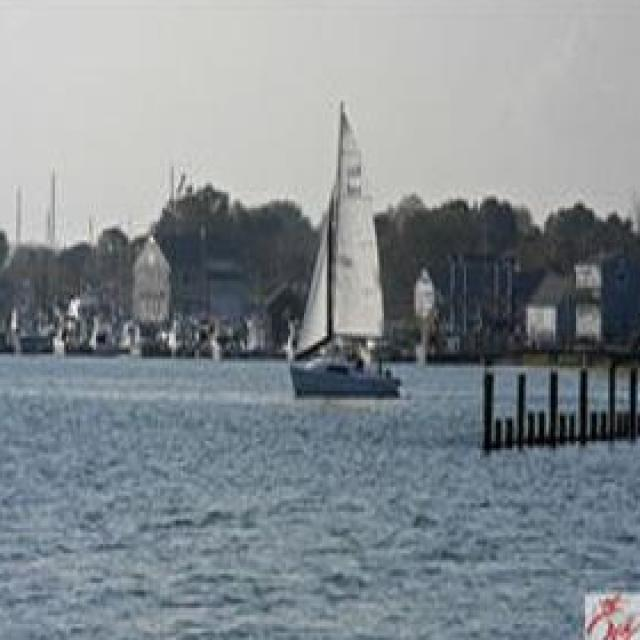navalvessels: (271, 110, 412, 409)
